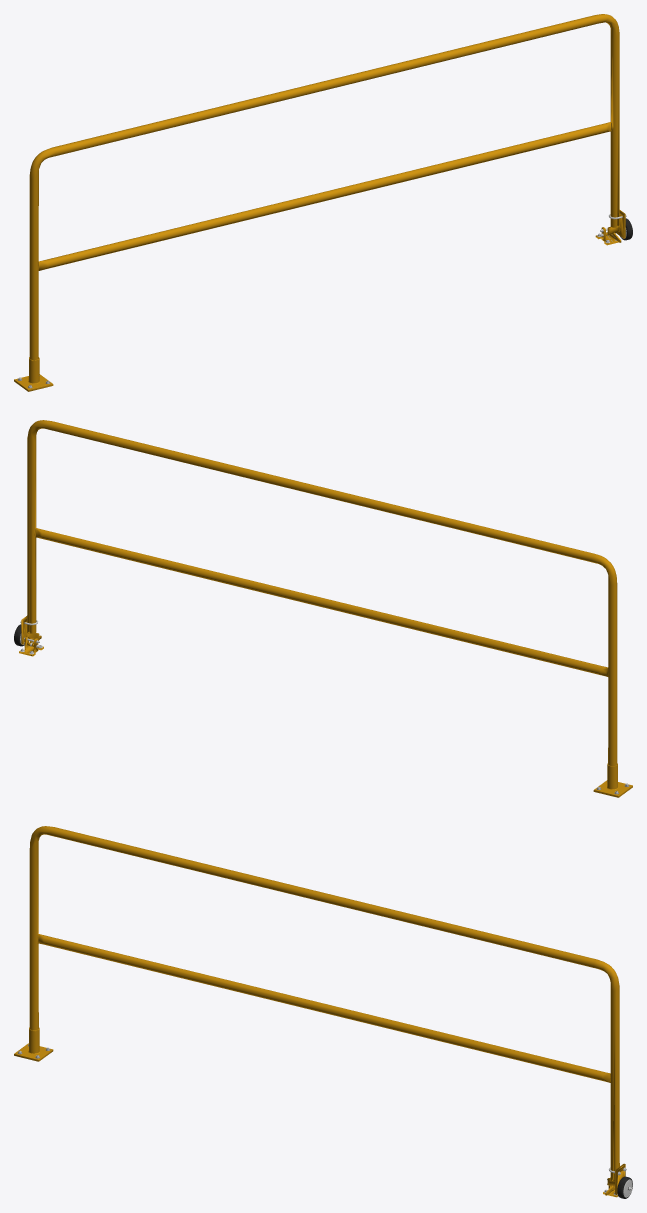
The model's file is barrier_gate_safetyDock_a02.glb.
3 views of the same model, one above another, from view 1: azimuth 30°, elevation 25°; view 2: azimuth 150°, elevation 25°; view 3: azimuth 330°, elevation 25° (orthographic).
Parts seen in each view (by area): view 1: sm_barrier_gate_a01_mesh_00, sm_stand_a01_mesh_00; view 2: sm_barrier_gate_a01_mesh_00, sm_stand_a01_mesh_00; view 3: sm_barrier_gate_a01_mesh_00, sm_stand_a01_mesh_00.
Part boxes in pixels (box(x1,y1,x2,y2)): sm_barrier_gate_a01_mesh_00: box(17, 14, 626, 388); sm_stand_a01_mesh_00: box(14, 357, 53, 391); sm_barrier_gate_a01_mesh_00: box(19, 420, 629, 794); sm_stand_a01_mesh_00: box(593, 763, 632, 797); sm_barrier_gate_a01_mesh_00: box(17, 826, 631, 1197); sm_stand_a01_mesh_00: box(14, 1027, 53, 1061).
Bounding box in the file's own units: 3.16 × 1.14 × 0.1473.
4 materials, 3 textured.
